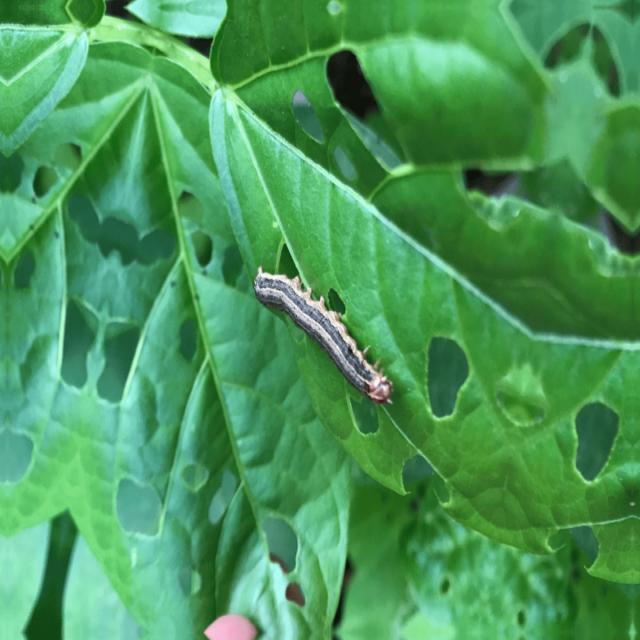armyworm: (252, 265, 393, 406)
